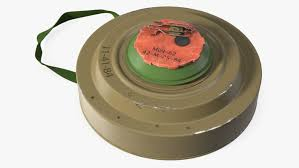car: (21, 1, 266, 166)
